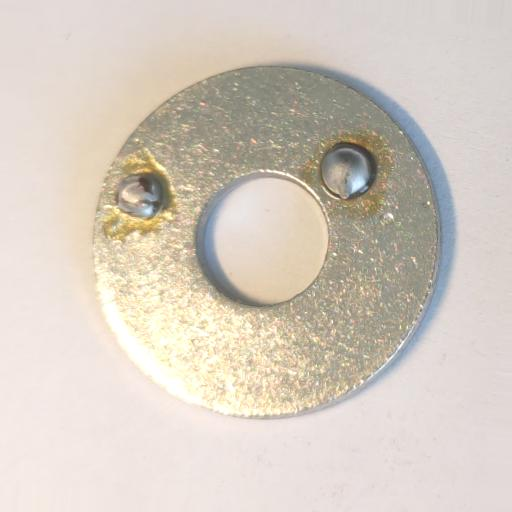excess_material: (316, 141, 379, 203), (112, 173, 168, 221)
